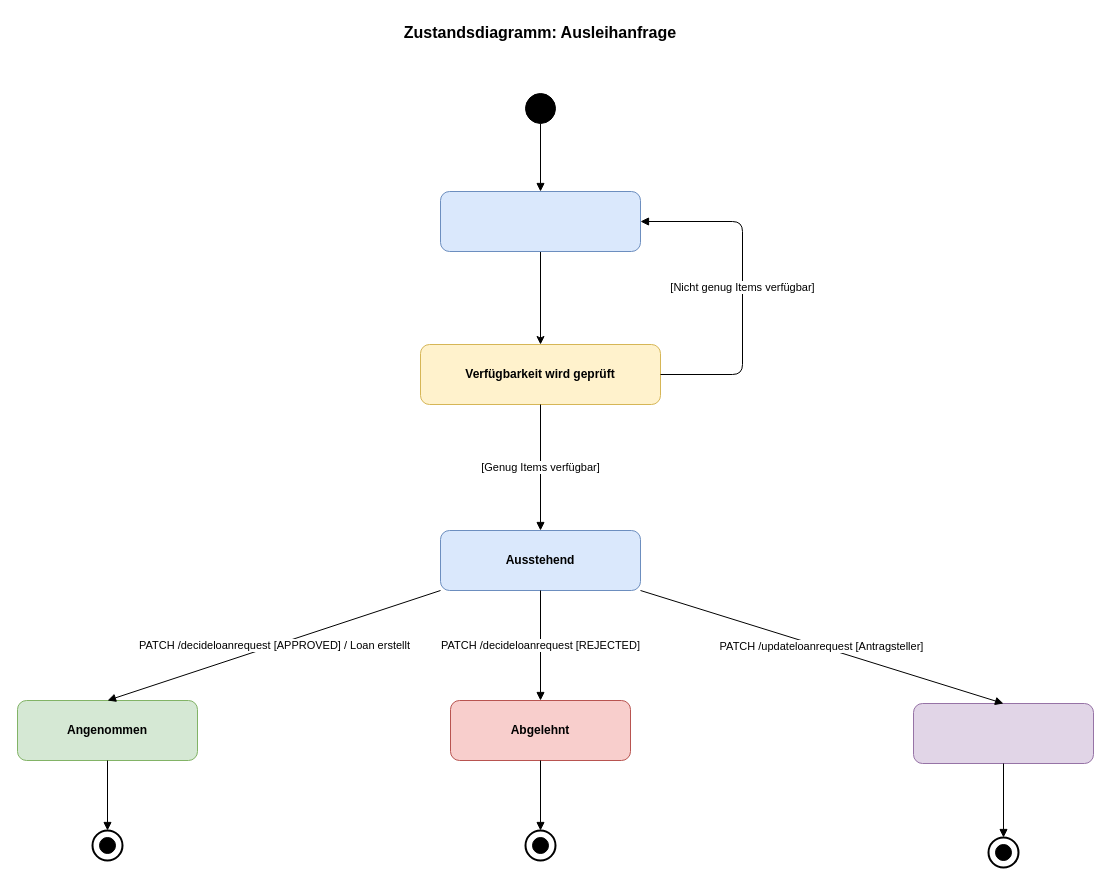
The diagram is 1111 pixels wide and 885 high, and some of its shapes have lost their labels. The shapes that lost their labels are listed below. From the top down, each one's centre as x and y in pixels, then its label:
At point 540,221: "Ausleihanfrage gestellt".
At point 1003,733: "Abgebrochen".
